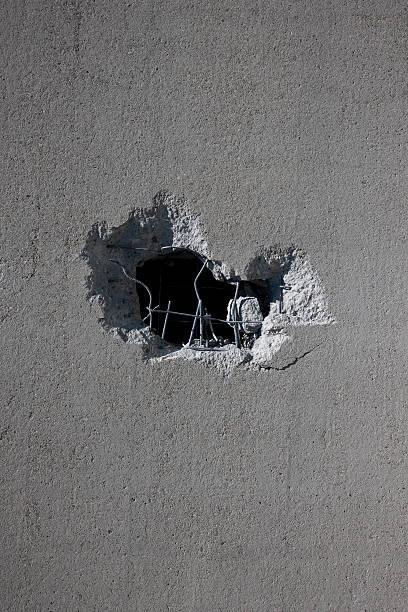Crack: (252, 341, 324, 372)
Exposed reinforcement: (108, 258, 152, 331), (105, 244, 210, 268), (145, 306, 263, 324), (187, 298, 202, 347), (193, 257, 209, 300), (230, 280, 240, 348), (205, 307, 218, 343), (160, 299, 171, 341), (141, 303, 160, 322), (199, 299, 204, 346)
Spalling: (79, 189, 337, 377)
